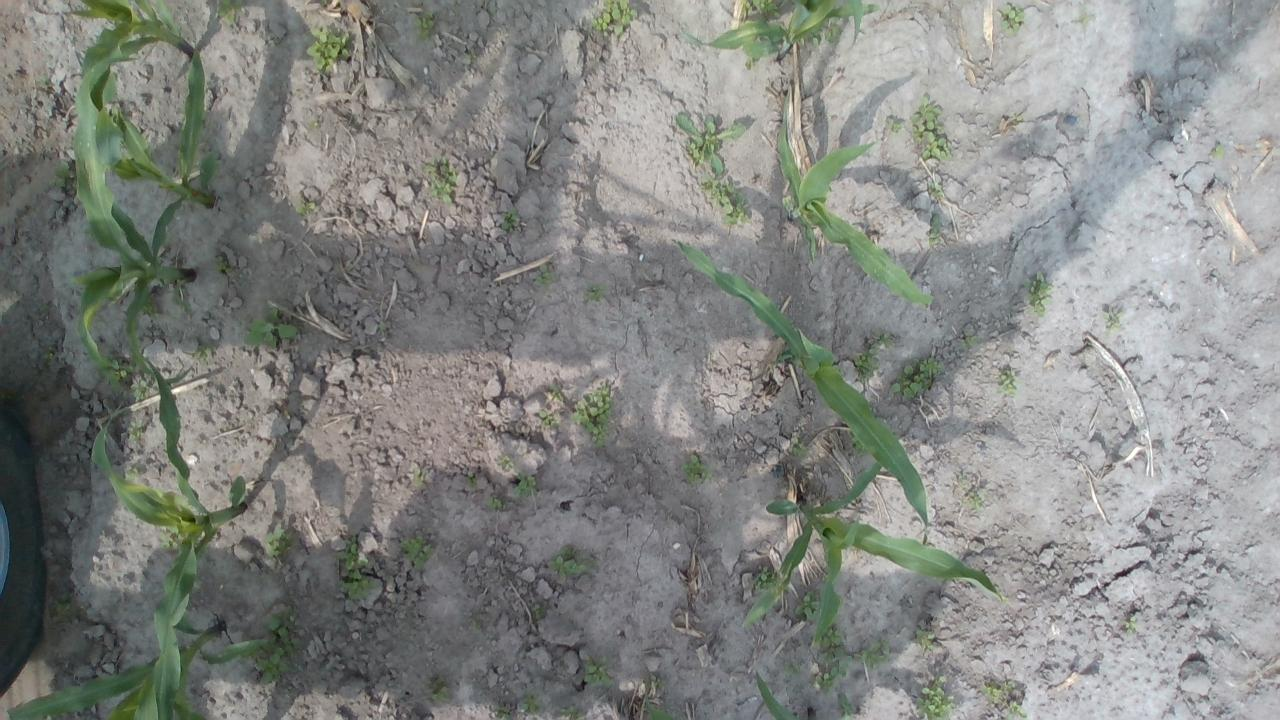Maize: (674, 237, 930, 552), (92, 359, 245, 720), (736, 459, 1000, 651), (60, 54, 196, 384), (774, 87, 934, 310), (78, 42, 218, 264), (7, 603, 268, 720), (54, 0, 194, 108), (676, 0, 878, 62), (751, 669, 821, 720)
Weeds: (674, 110, 746, 175), (570, 382, 616, 451), (909, 96, 952, 162), (243, 303, 298, 350), (702, 174, 750, 226), (262, 606, 307, 658), (890, 356, 941, 400), (305, 28, 351, 73), (816, 648, 854, 696), (422, 158, 458, 206), (917, 675, 955, 720), (253, 648, 293, 684), (592, 0, 636, 32), (1023, 271, 1054, 316), (548, 546, 592, 576), (332, 534, 368, 570), (398, 534, 434, 570), (339, 569, 377, 601), (681, 454, 713, 488), (52, 592, 88, 622), (584, 656, 614, 688), (957, 478, 985, 512), (862, 638, 892, 668), (100, 355, 131, 383), (742, 0, 781, 22), (792, 590, 822, 618), (998, 3, 1025, 34), (854, 352, 880, 384), (992, 368, 1019, 398), (263, 528, 289, 558), (170, 278, 192, 313), (511, 472, 538, 499), (413, 9, 436, 40), (518, 688, 546, 713), (154, 526, 182, 550), (983, 680, 1014, 701), (46, 160, 70, 187), (926, 216, 946, 246), (755, 566, 778, 592), (216, 0, 243, 22), (583, 282, 608, 304), (915, 625, 936, 651), (428, 679, 451, 702), (138, 298, 162, 320), (499, 207, 521, 231), (871, 331, 895, 351), (648, 702, 674, 720), (821, 624, 840, 648), (789, 437, 810, 458), (824, 22, 844, 44), (192, 344, 212, 366), (532, 266, 554, 286), (538, 408, 558, 429), (1006, 699, 1026, 720), (838, 692, 854, 718), (850, 436, 870, 456), (646, 672, 669, 689), (130, 380, 149, 400), (560, 703, 582, 720), (296, 198, 316, 216), (122, 464, 142, 481), (926, 182, 944, 200), (1105, 312, 1122, 331), (482, 496, 505, 510), (494, 703, 512, 720), (127, 422, 145, 439), (959, 334, 978, 350), (210, 255, 227, 272), (530, 604, 544, 624), (784, 662, 802, 676), (466, 472, 479, 490), (414, 468, 426, 487), (498, 455, 514, 469), (1212, 144, 1226, 160), (807, 30, 821, 46), (42, 344, 56, 360), (1124, 616, 1136, 634), (80, 225, 94, 240), (745, 55, 761, 68), (549, 386, 562, 401), (884, 118, 900, 130), (776, 350, 791, 362), (865, 398, 877, 413), (779, 196, 792, 209), (376, 320, 386, 336), (1080, 12, 1089, 27), (470, 620, 480, 632), (37, 77, 50, 85), (40, 303, 49, 312)
